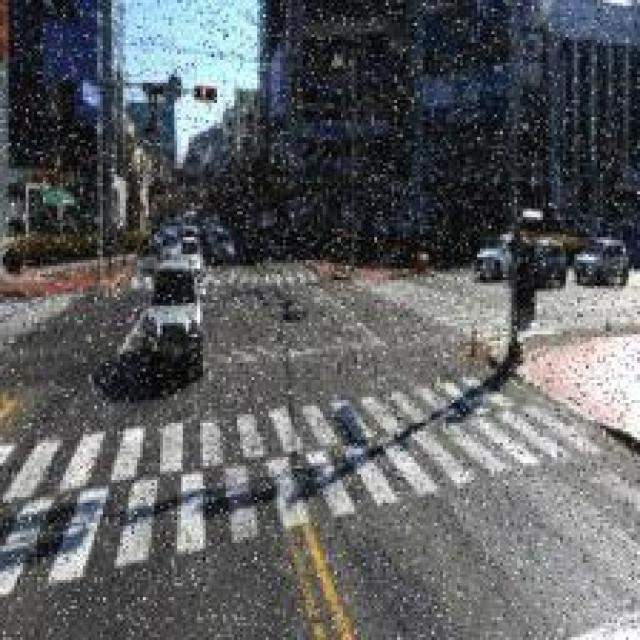crosswalk: (198, 258, 330, 288)
